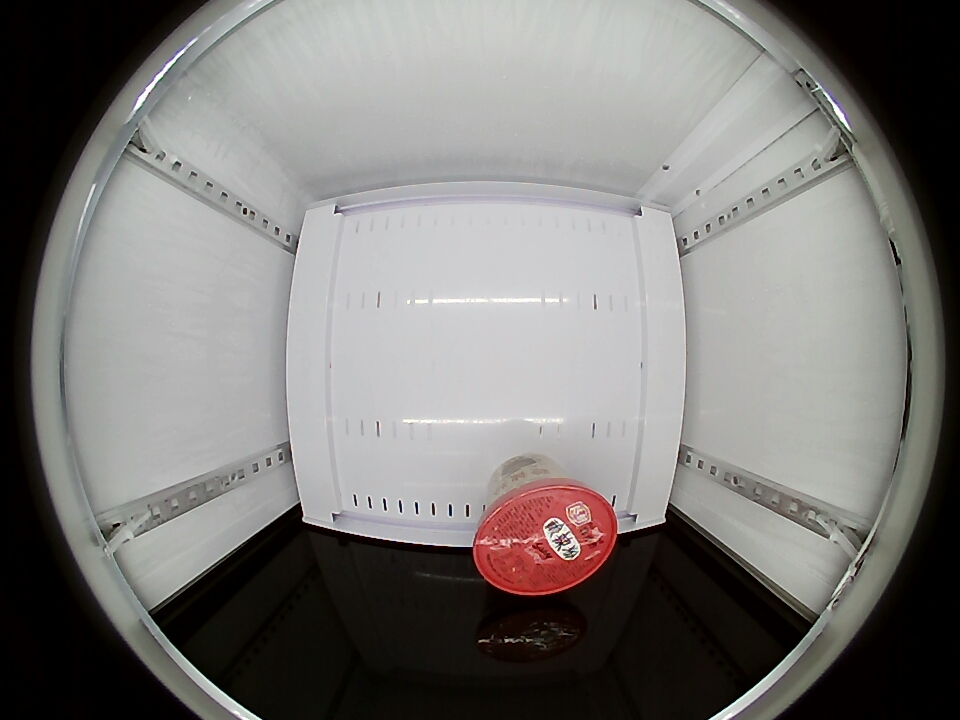suanlafen: (472, 473, 619, 595)
